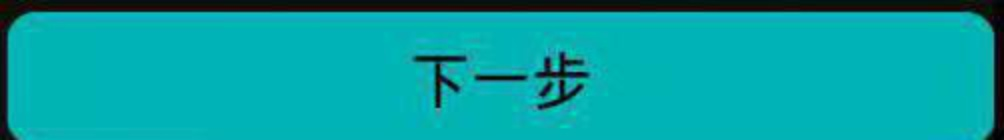Button: (1, 1, 1003, 139)
